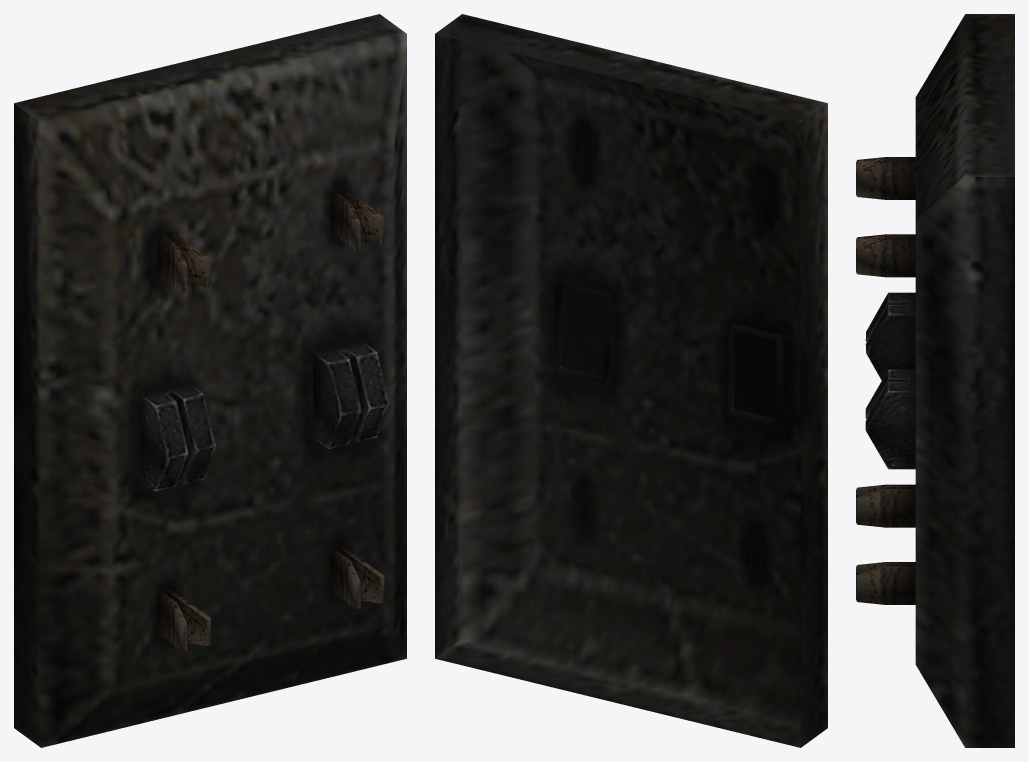
File: LeverBase.obj
3 renders of one model, left to right at view 1: azimuth 30°, elevation 25°; view 2: azimuth 150°, elevation 25°; view 3: azimuth 270°, elevation 25°, orthographic. The views are drawn at different scales.
Parts seen in each view (by area): view 1: intmhhaibzui.001; view 2: intmhhaibzui.001; view 3: intmhhaibzui.001.
Boxes of the visible parts, x1,y1,x2,y2 form: intmhhaibzui.001: (14,14,406,747); intmhhaibzui.001: (435,14,827,747); intmhhaibzui.001: (856,14,1014,747).
Bounding box in the file's own units: 0.1673 × 0.2731 × 0.0688.
